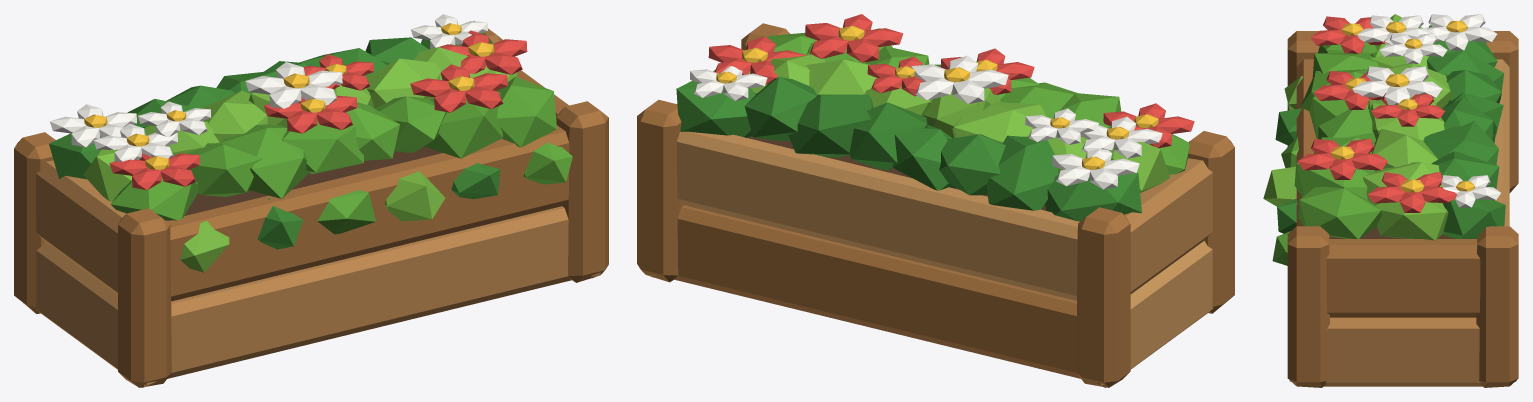
Rendered from flower_box.glb.
3 renders of one model, left to right at view 1: azimuth 30°, elevation 25°; view 2: azimuth 150°, elevation 25°; view 3: azimuth 270°, elevation 25°, orthographic. The views are drawn at different scales.
Parts seen in each view (by area): view 1: flower_box; view 2: flower_box; view 3: flower_box.
Part boxes in pixels (x1,y1,x2,y2): flower_box: (14,14,608,387); flower_box: (637,14,1234,387); flower_box: (1263,14,1518,387).
Bounding box in the file's own units: 0.85 × 0.3822 × 0.4312.
